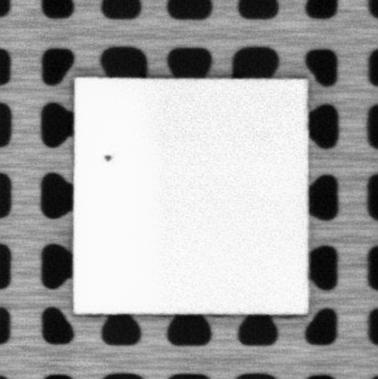DIE_INK: (101, 152, 113, 163)
